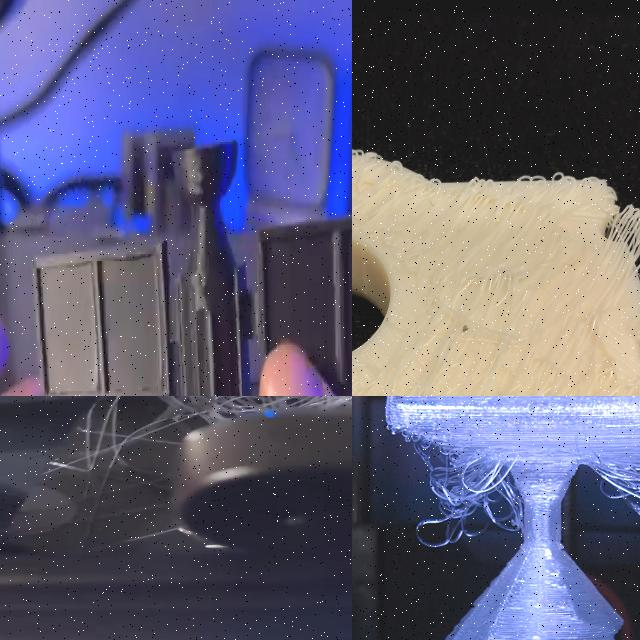spaghetti: (352, 142, 640, 396), (393, 434, 529, 548), (576, 433, 640, 531)
